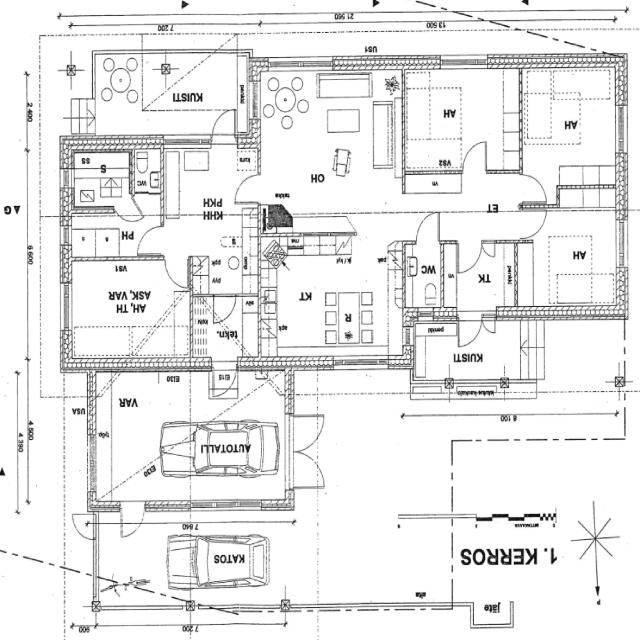door: (291, 436, 328, 488), (290, 412, 326, 453), (460, 136, 491, 176), (456, 311, 486, 349), (208, 106, 239, 142), (519, 170, 549, 205), (119, 500, 145, 540), (136, 222, 164, 258), (232, 170, 261, 204), (414, 209, 442, 243), (211, 360, 238, 395), (163, 255, 190, 288), (456, 241, 482, 275), (522, 205, 548, 239), (212, 292, 237, 324), (72, 512, 96, 540), (479, 308, 499, 338), (131, 189, 150, 216), (480, 238, 498, 260)
window: (331, 352, 391, 374), (612, 210, 631, 272), (612, 100, 630, 158), (438, 52, 490, 72), (452, 376, 502, 394), (58, 278, 74, 334), (162, 132, 208, 148), (59, 219, 70, 248), (233, 578, 252, 588)
zone: (260, 234, 400, 351), (258, 69, 392, 185), (66, 257, 192, 357), (520, 68, 618, 195), (402, 65, 518, 172), (517, 197, 623, 312), (163, 146, 252, 220), (188, 212, 260, 294), (451, 242, 518, 312), (69, 150, 130, 208), (68, 208, 135, 260), (404, 241, 448, 311), (201, 539, 264, 584), (204, 429, 253, 473), (131, 146, 163, 193)
